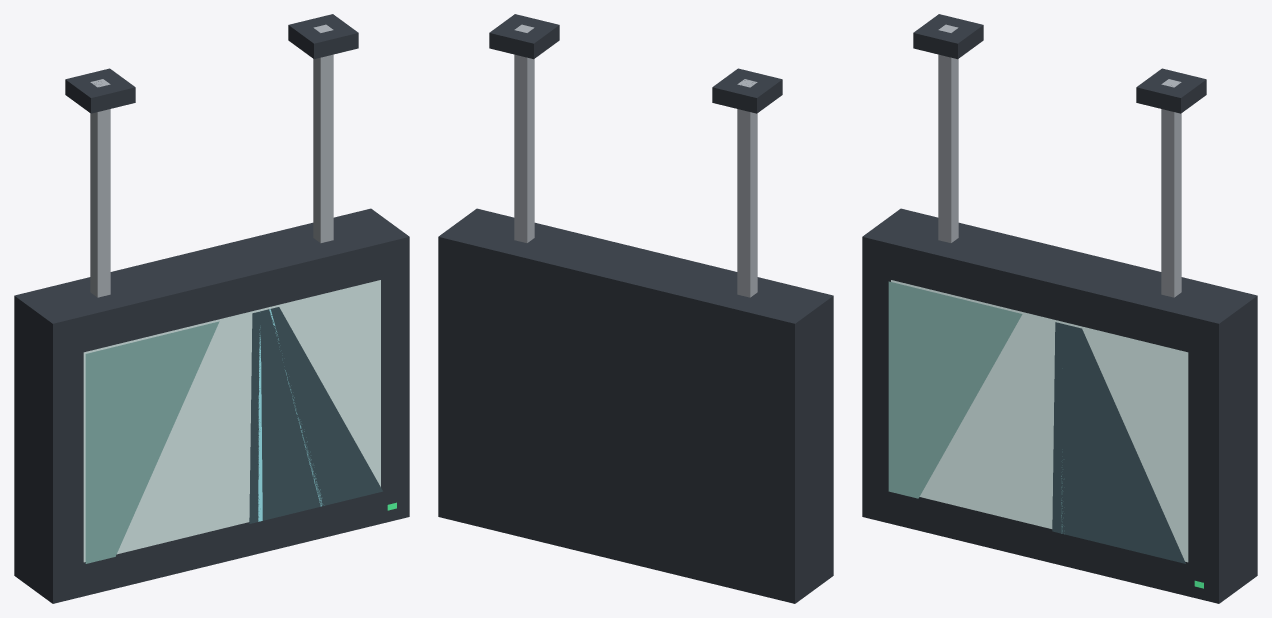
File: monitor-ceiling.glb
The picture shows the model from 3 angles, left to right: view 1: azimuth 30°, elevation 25°; view 2: azimuth 150°, elevation 25°; view 3: azimuth 330°, elevation 25°; orthographic projection.
Parts seen in each view (by area): view 1: MonitorCeiling, monitor-view-0; view 2: MonitorCeiling; view 3: MonitorCeiling, monitor-view-0.
Boxes of the visible parts, x1,y1,x2,y2 form: MonitorCeiling: (14, 14, 409, 603); monitor-view-0: (83, 280, 382, 563); MonitorCeiling: (438, 14, 833, 603); MonitorCeiling: (862, 14, 1257, 603); monitor-view-0: (888, 280, 1188, 563).
Bounding box in the file's own units: 0.96 × 1.26 × 0.195.
